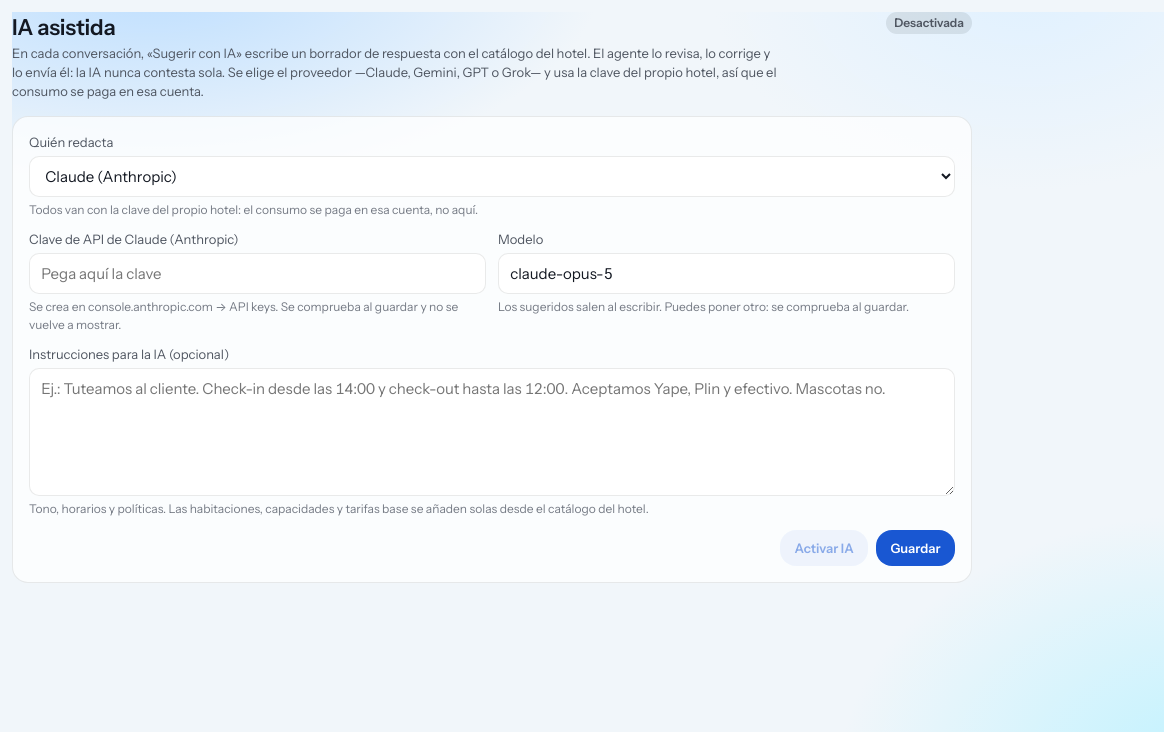
Test: Ajustes → IA · varios proveedores › elegir Gemini enseña el aviso del plan GRATUITO ANTES de pedir la clave
Expected: the text "plan GRATUITO" is not shown
Select "Gemini (Google)" in the dropdown labelled "Quién redacta" at (492,177), box 29,156 -> 955,197
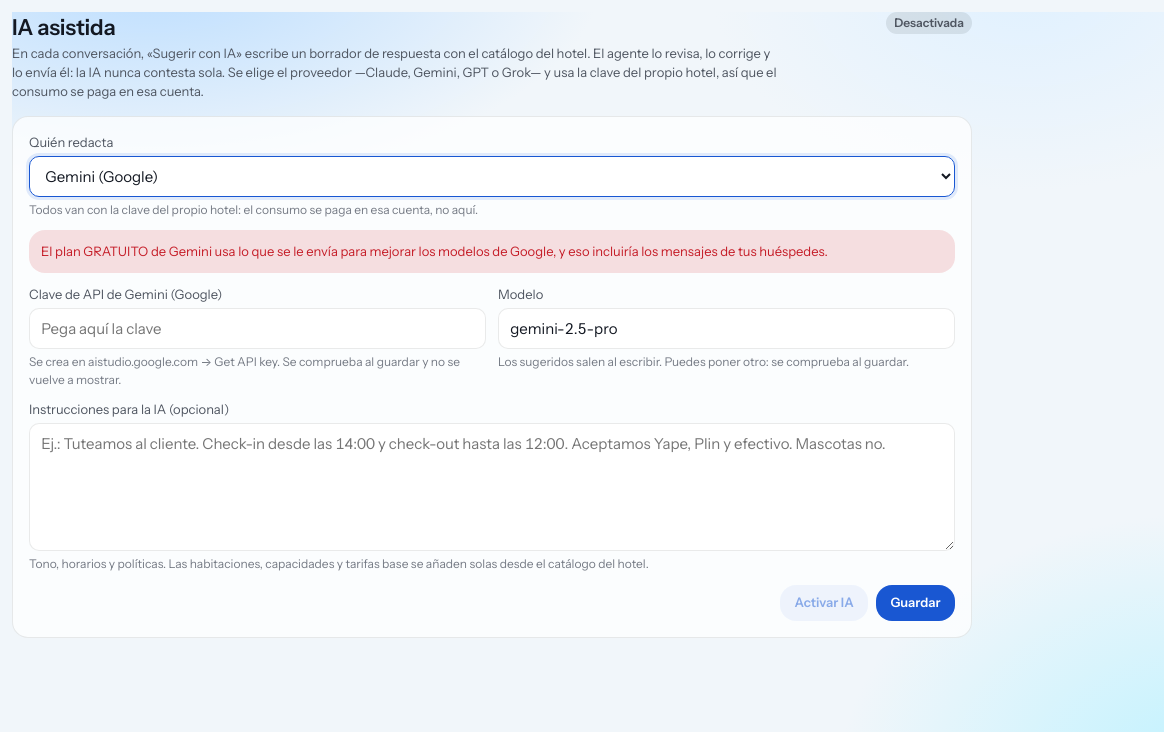
Expected: the text "plan GRATUITO" shows "mensajes de tus huéspedes", 41,243 -> 828,259
